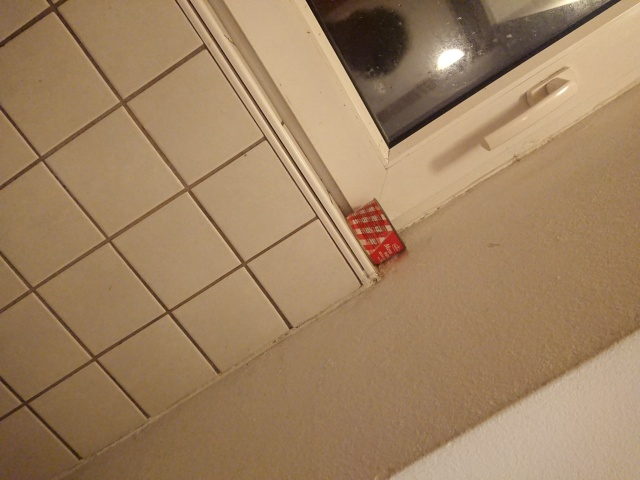Podravka Luncheon Meat 150g: (343, 194, 408, 270)
